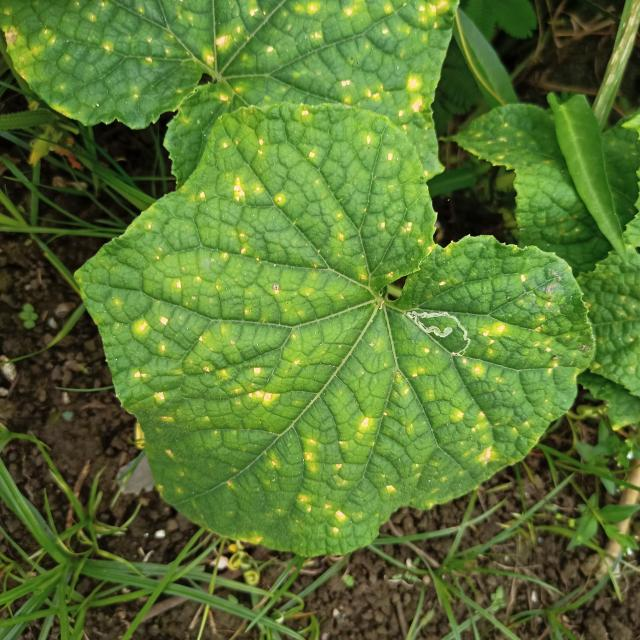disease_cucumber: (105, 116, 540, 551), (80, 0, 458, 131)
